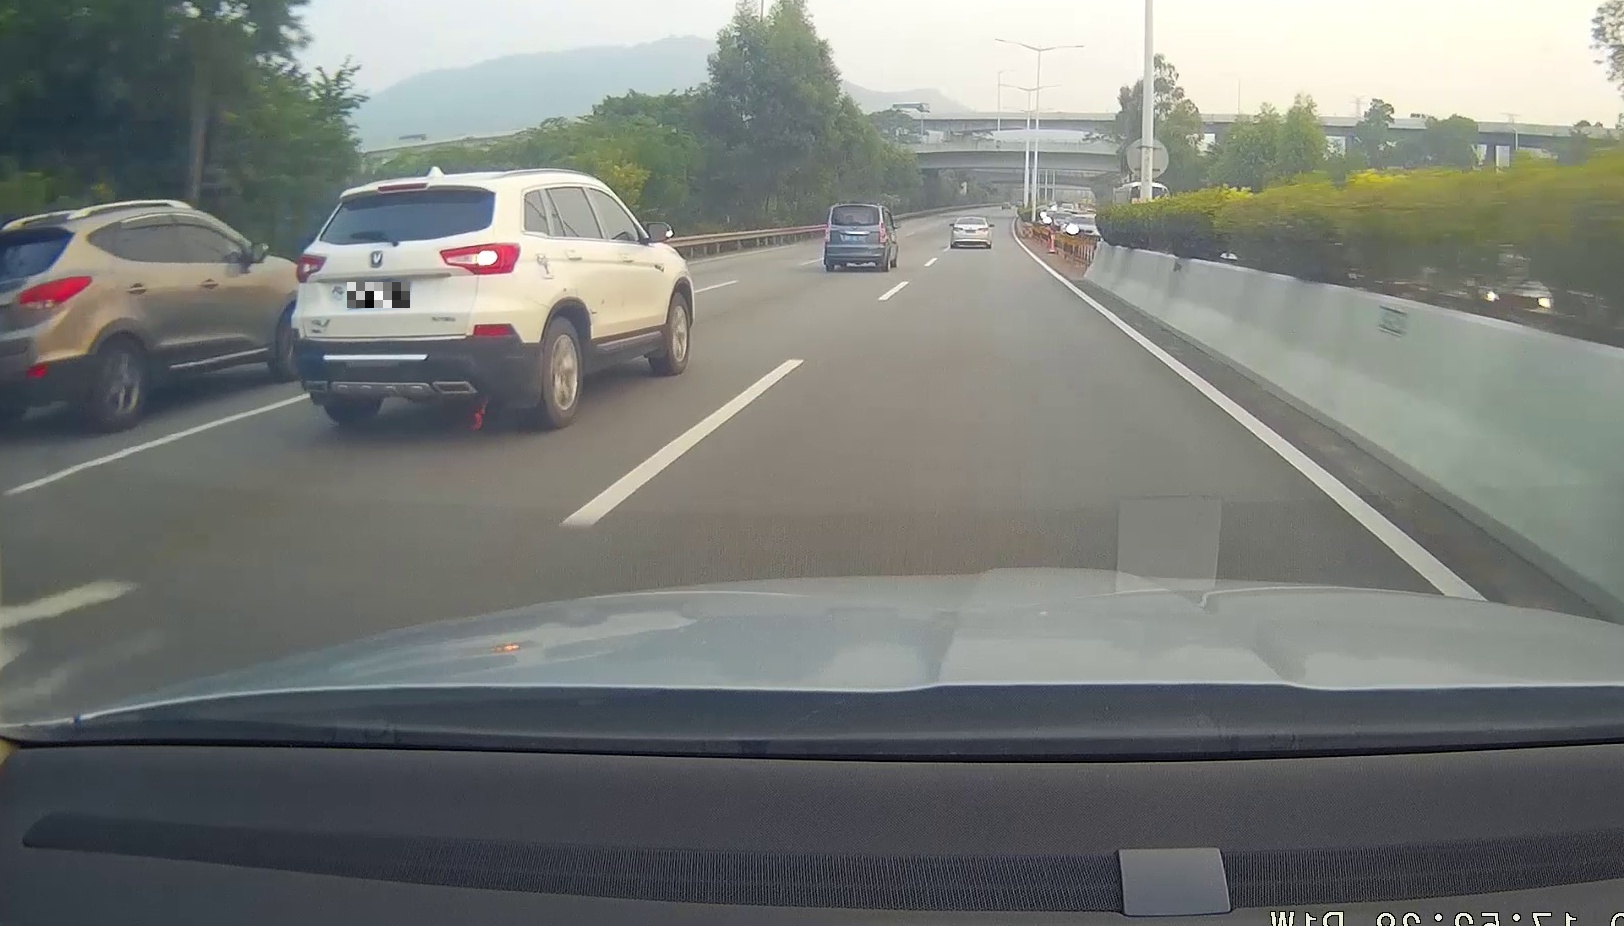L_light: (294, 253, 328, 283), (825, 223, 831, 242), (953, 226, 964, 231)
R_light: (439, 243, 522, 276), (879, 223, 884, 243), (978, 226, 989, 231)
T_light: (376, 182, 429, 192), (851, 222, 861, 225), (969, 219, 976, 221)
day-no: (822, 203, 888, 271), (950, 216, 992, 248)
day-right: (288, 172, 529, 427)
plate_1: (347, 282, 410, 308)
